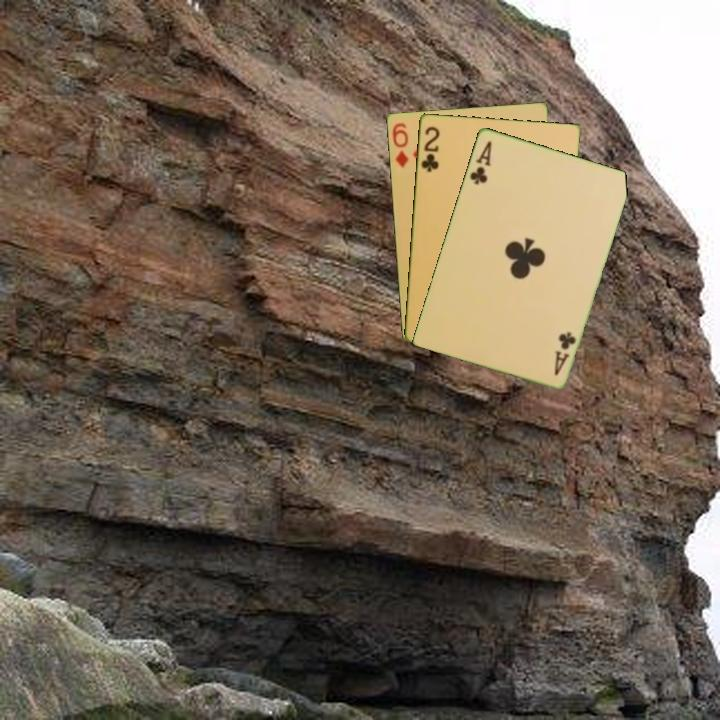2c: (417, 123, 442, 174)
6d: (388, 119, 411, 170)
Ac: (466, 136, 494, 187), (550, 328, 578, 378)
